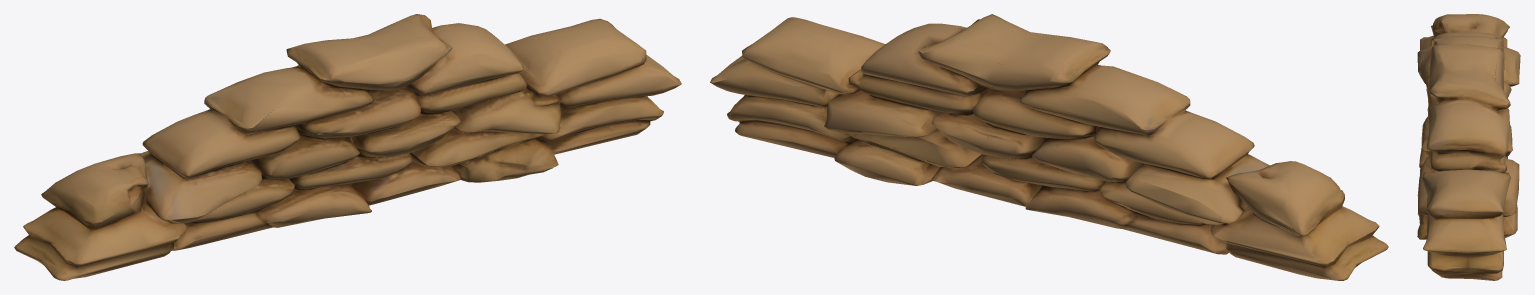
3 renders of one model, left to right at view 1: azimuth 30°, elevation 25°; view 2: azimuth 150°, elevation 25°; view 3: azimuth 270°, elevation 25°, orthographic. The views are drawn at different scales.
Visible parts, largest first — view 1: material; view 2: material; view 3: material.
Boxes of the visible parts, x1,y1,x2,y2 form: material: (14, 14, 681, 280); material: (710, 14, 1388, 280); material: (1417, 14, 1520, 280).
Size of the model in its own units: 1.9 by 0.4369 by 0.34.
Materials: 1 (1 with a texture image).
